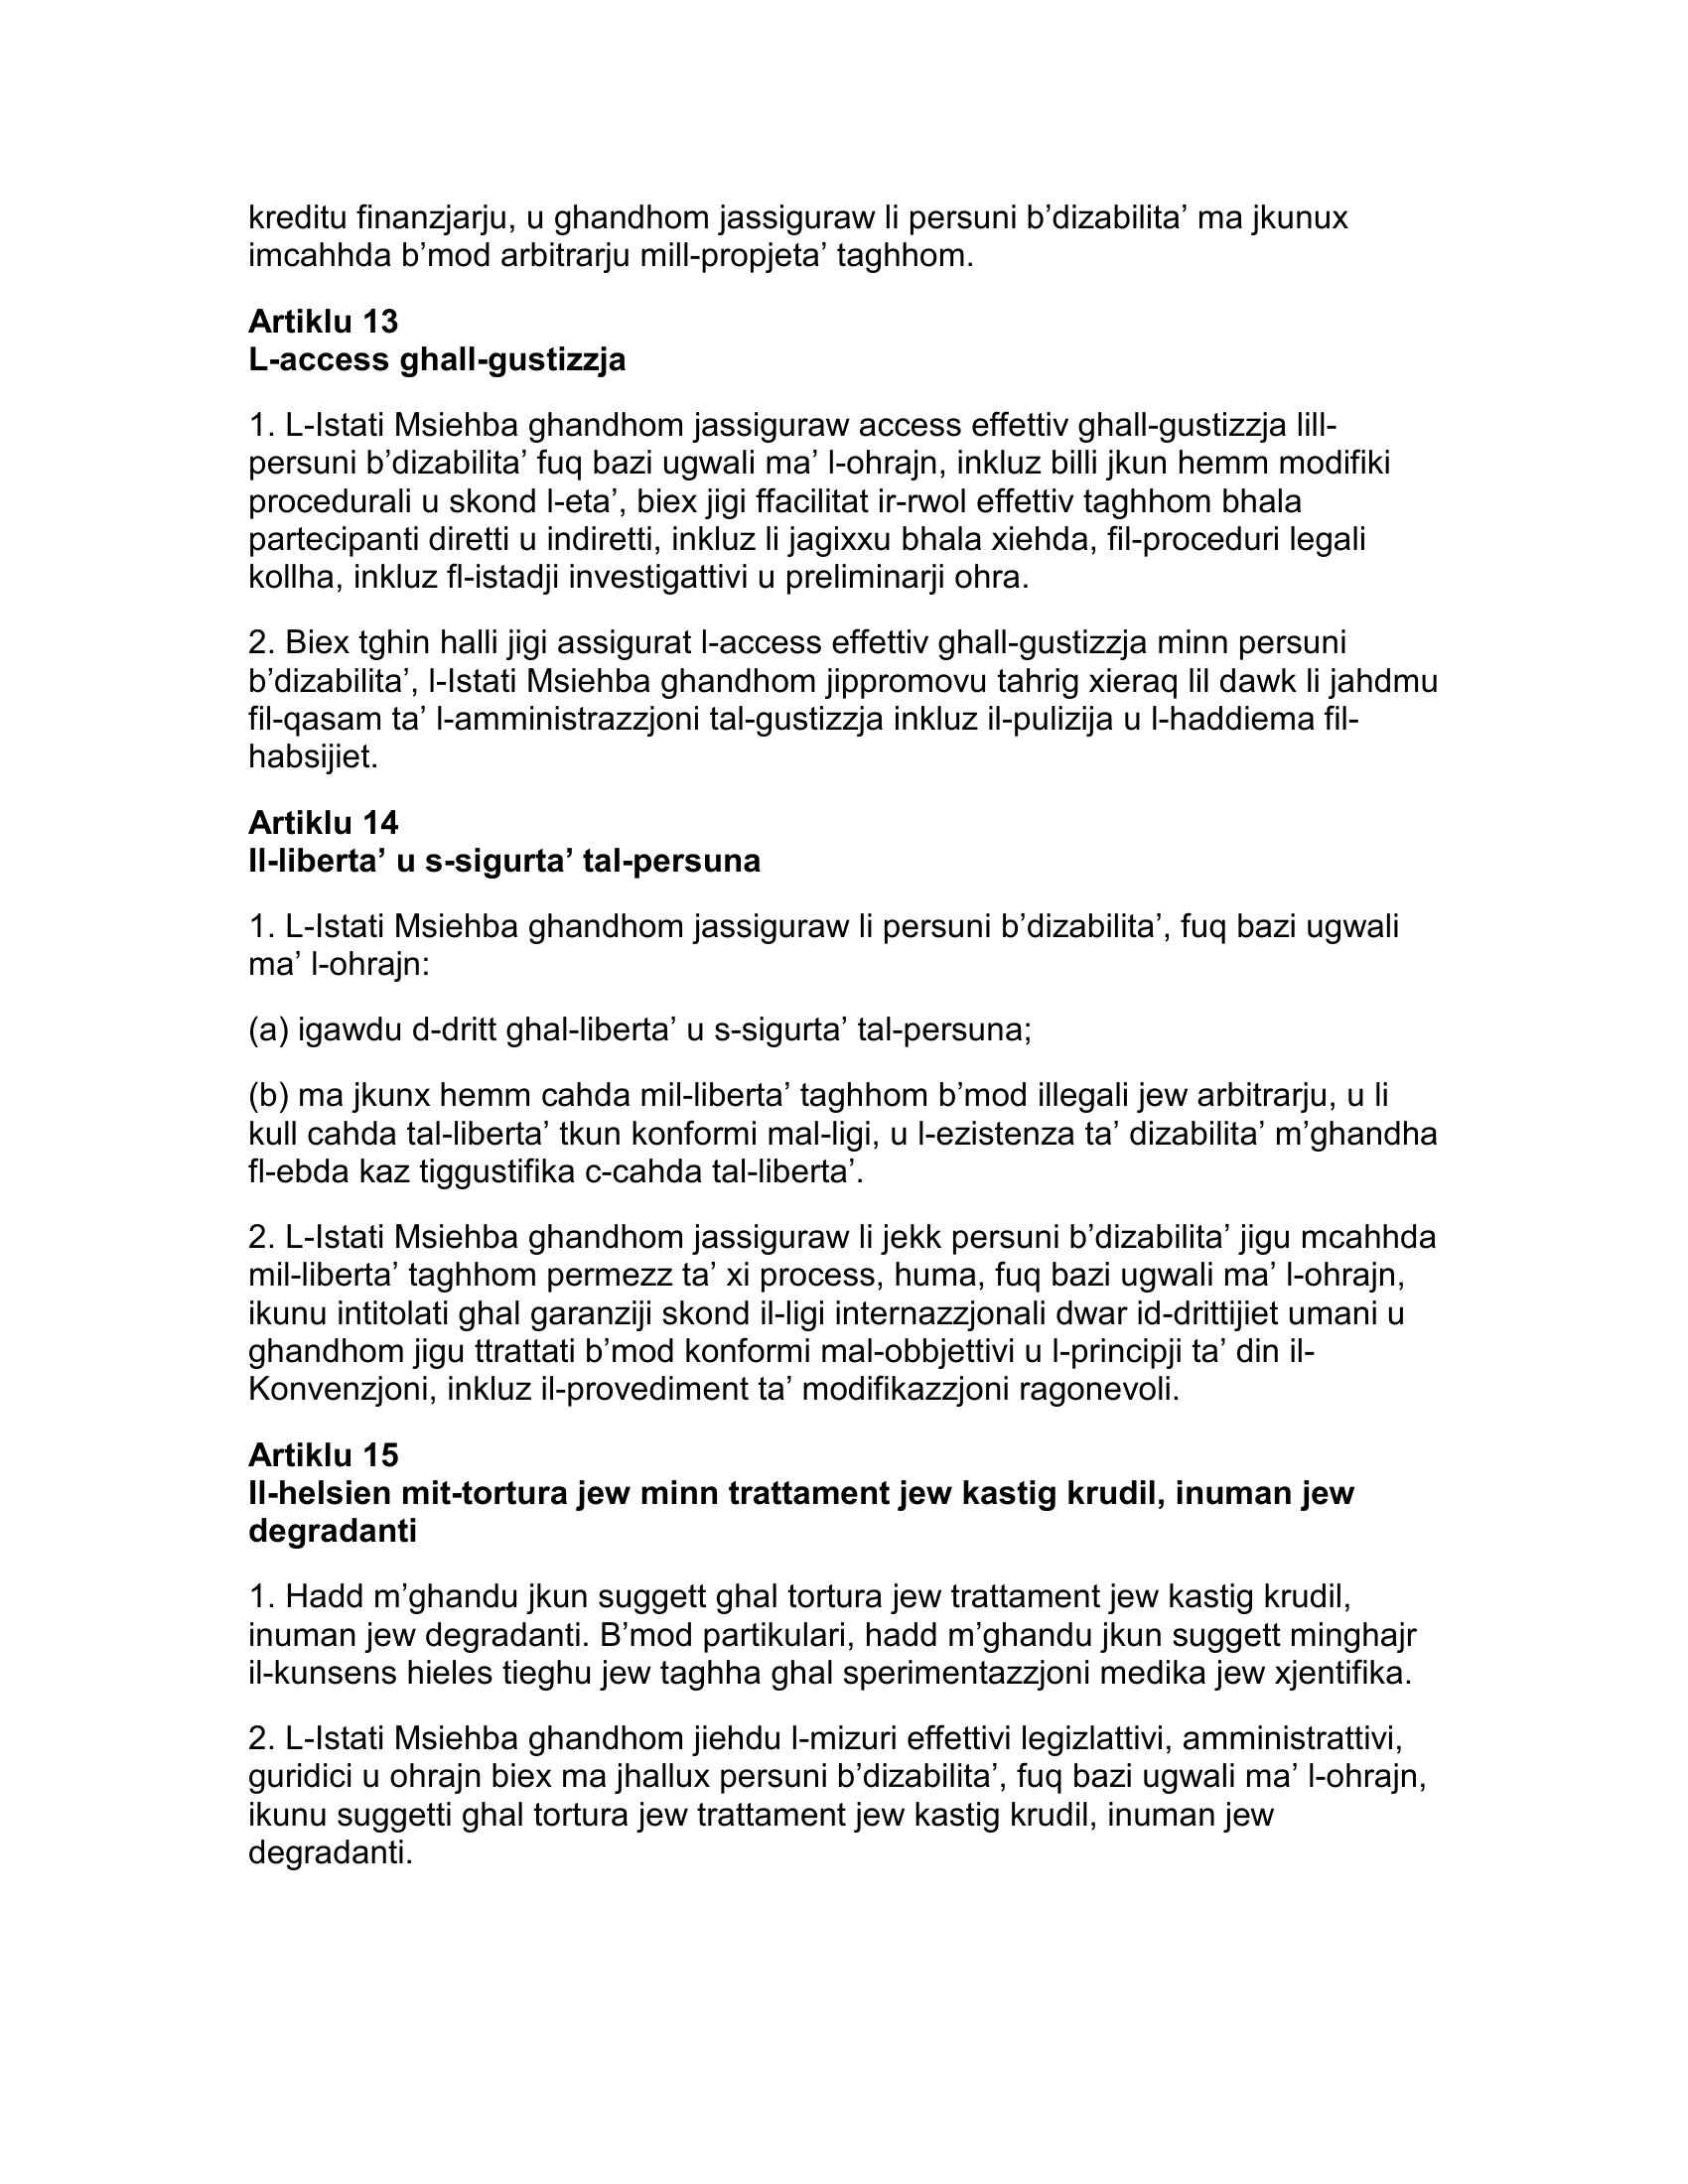text: (223, 175, 1491, 1906)
